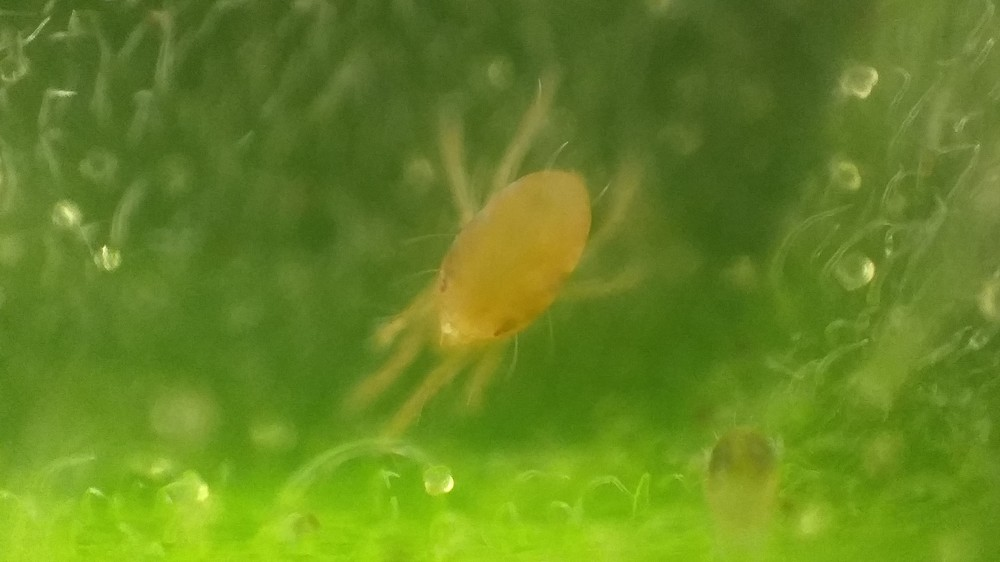Aracnido Rojo: (334, 86, 660, 423)
